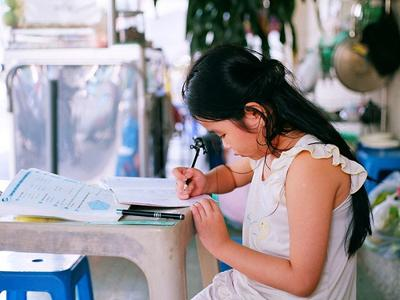person: (170, 44, 370, 299)
